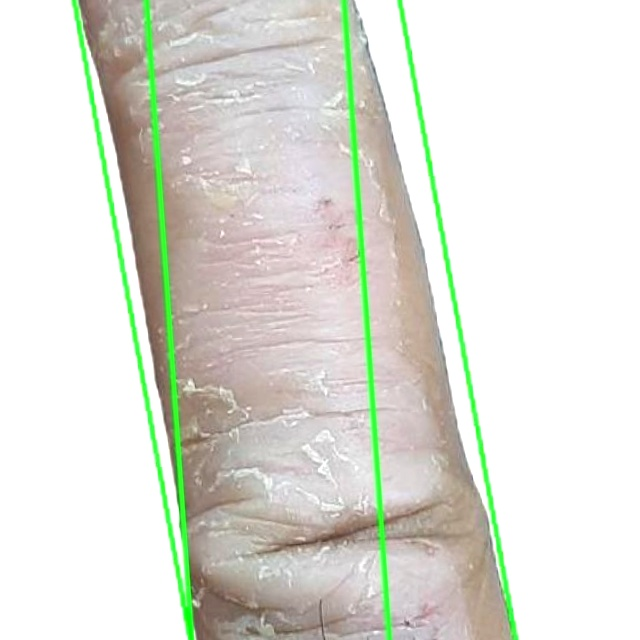Eczema: (75, 0, 515, 639), (344, 0, 639, 639)
